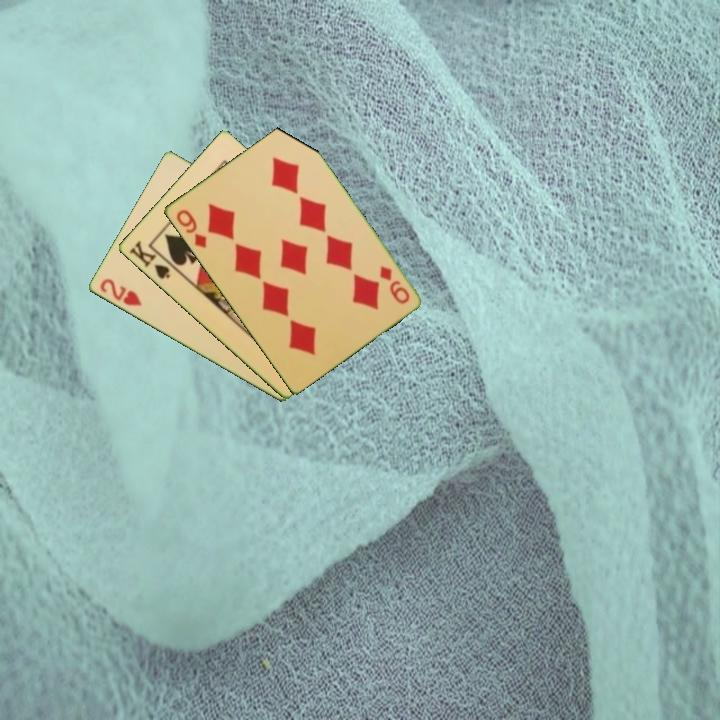2h: (96, 275, 144, 309)
9d: (172, 206, 209, 251), (375, 262, 412, 307)
Ks: (125, 237, 178, 282)
